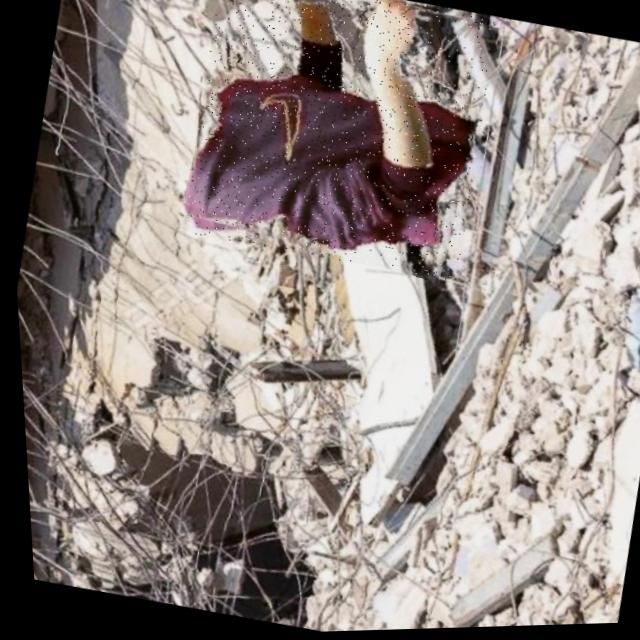Person in Rubble: (168, 0, 509, 289)
